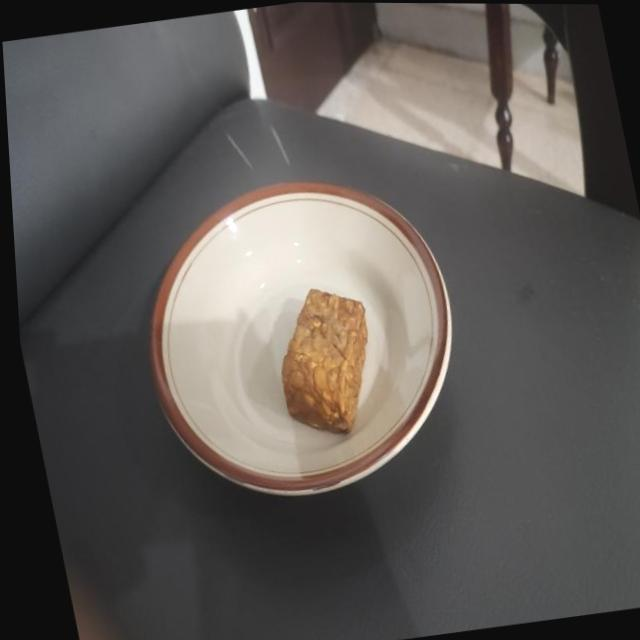tempe_goreng: (282, 290, 368, 433)
